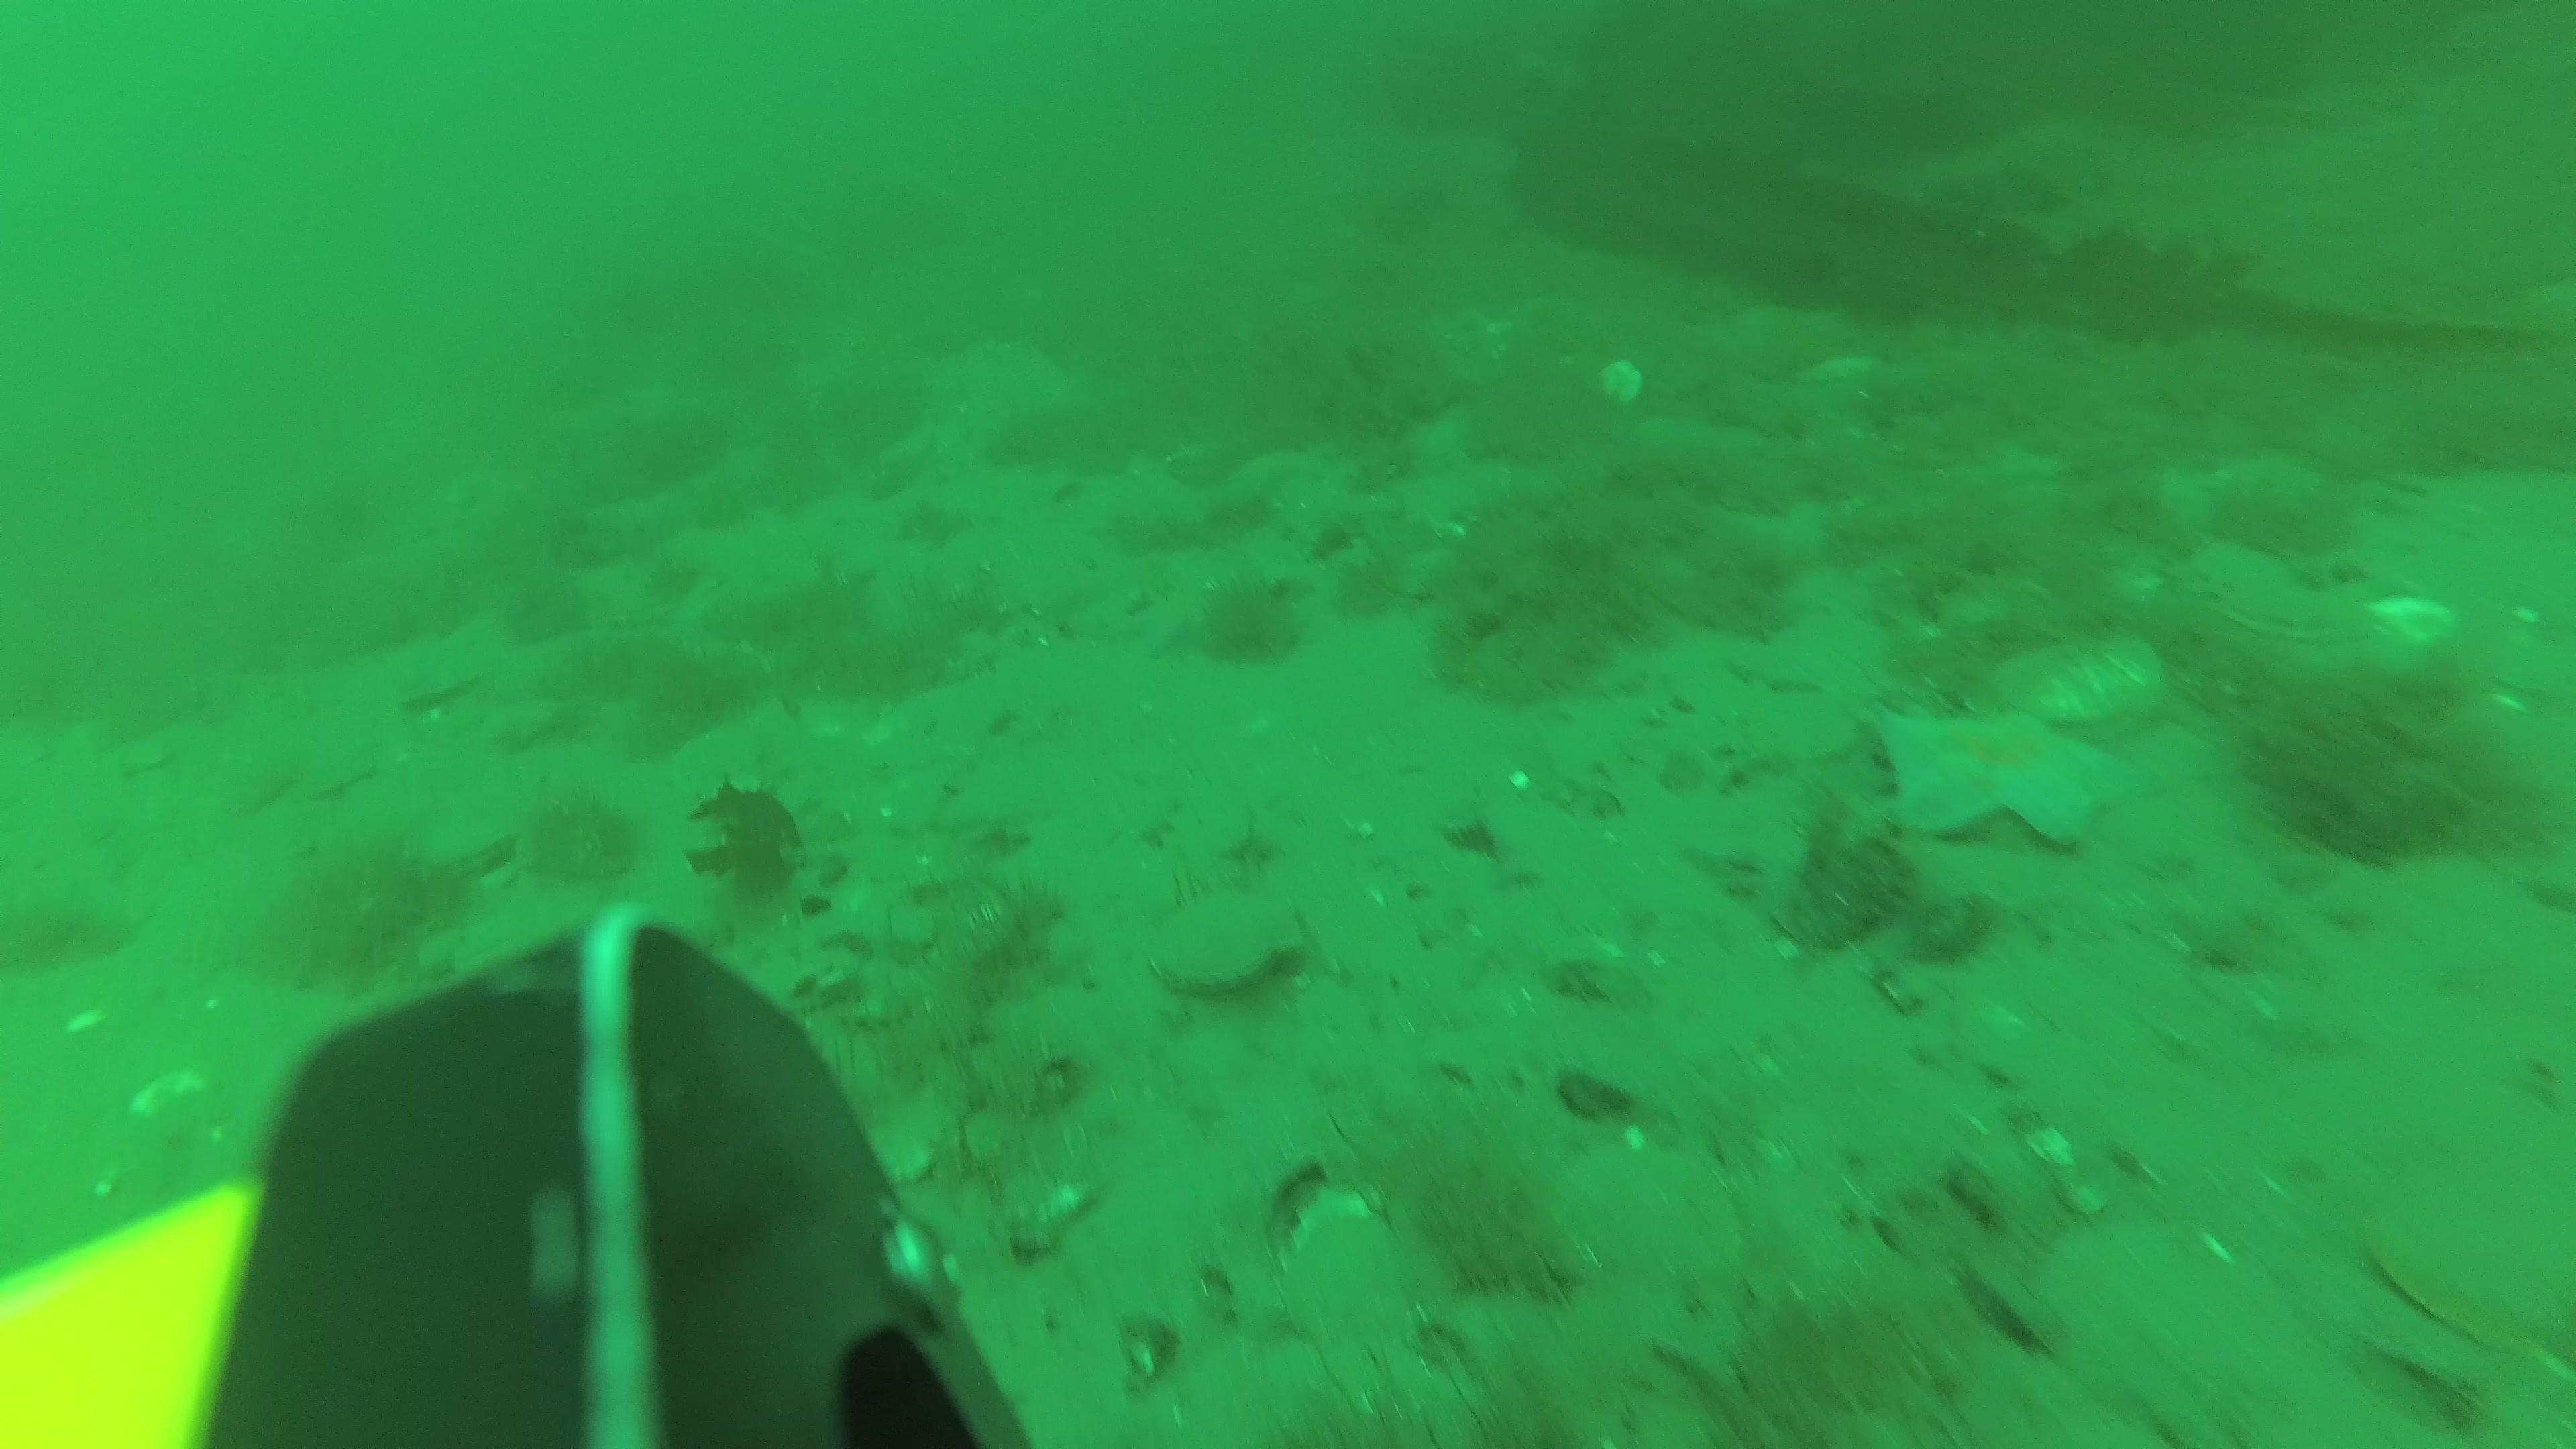scallop: (2178, 536, 2357, 642), (1143, 885, 1309, 994), (1978, 625, 2164, 717), (1787, 352, 1884, 389), (1592, 359, 1645, 412)
starfish: (1858, 702, 2150, 846), (1141, 577, 1238, 651)
